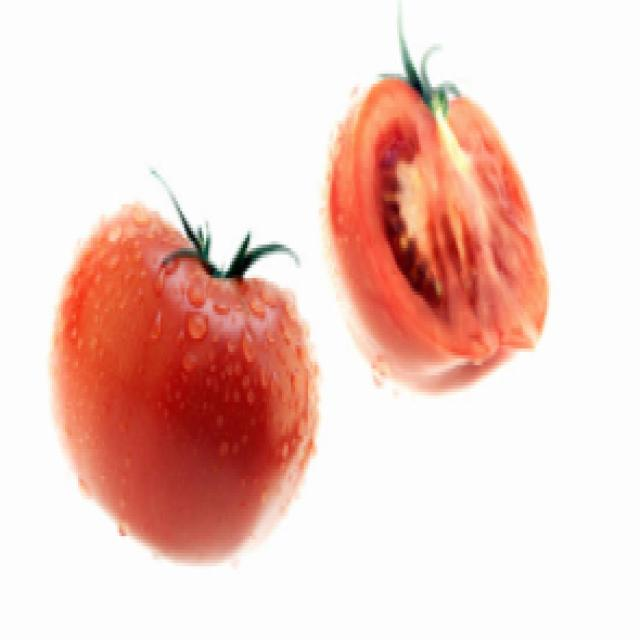Tomato: (50, 178, 324, 574), (328, 74, 568, 386)
